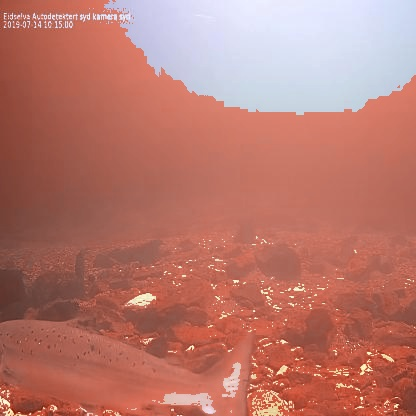salmon: (0, 309, 262, 416)
